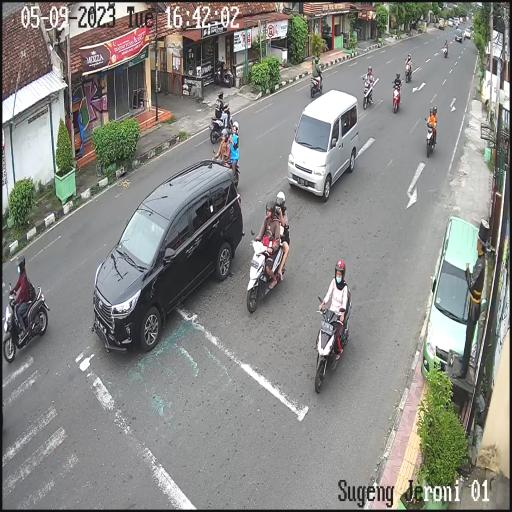mobil: (89, 153, 244, 358), (286, 84, 360, 200)
motor: (243, 212, 290, 315), (310, 289, 348, 396), (2, 282, 52, 362), (208, 108, 238, 142), (362, 74, 375, 118), (306, 67, 323, 98), (392, 77, 402, 115)
